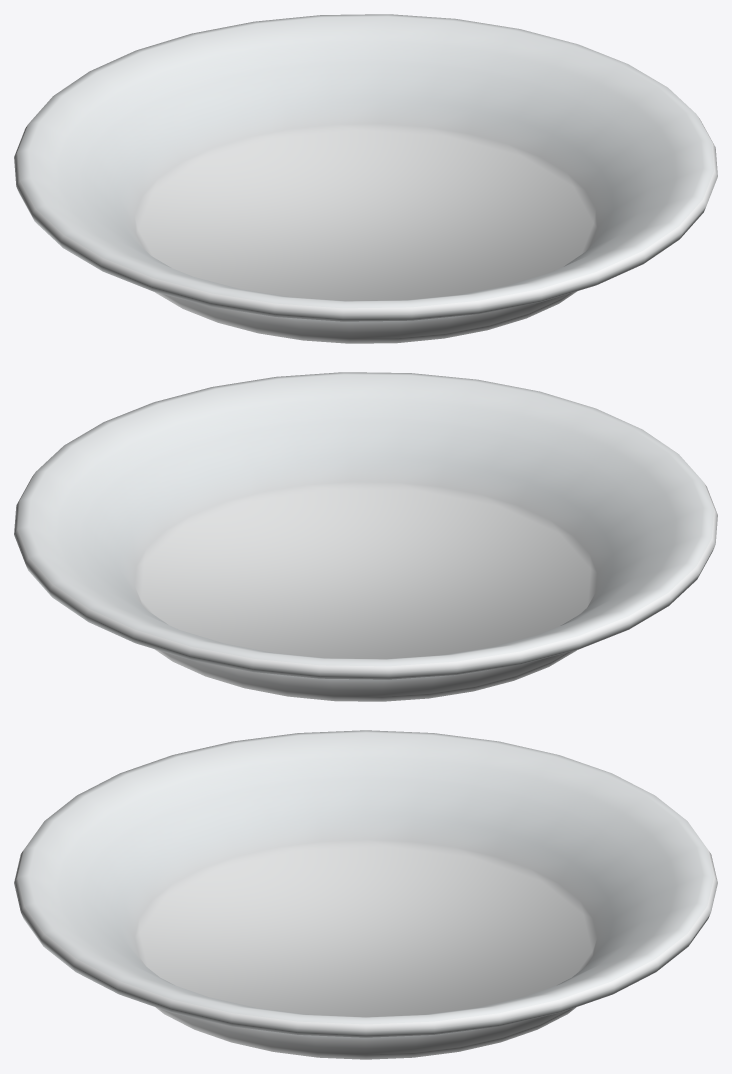
The model's file is plate_007.fbx.
The picture shows the model from 3 angles, top to bottom: view 1: azimuth 30°, elevation 25°; view 2: azimuth 150°, elevation 25°; view 3: azimuth 270°, elevation 25°; orthographic projection.
Visible parts, largest first — view 1: plate_007; view 2: plate_007; view 3: plate_007.
Part boxes in pixels (bbox=[...]): plate_007: bbox=[14, 14, 717, 343]; plate_007: bbox=[14, 372, 717, 701]; plate_007: bbox=[14, 730, 717, 1059].
Size of the model in its own units: 23.24 by 23.24 by 2.98.
